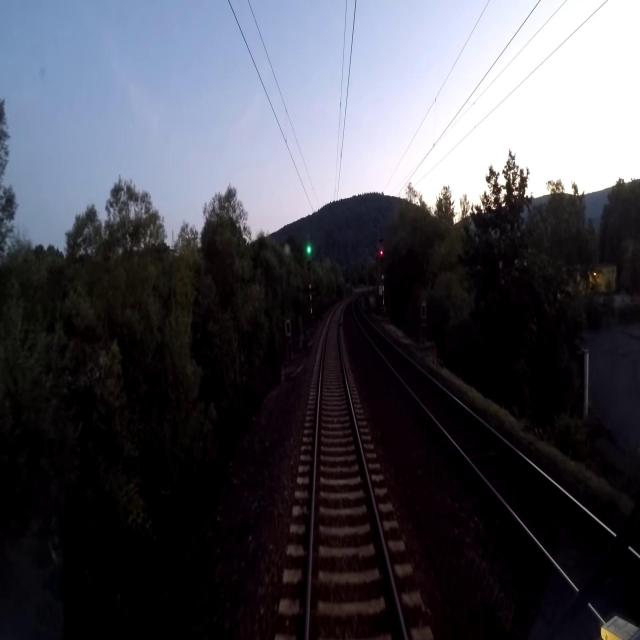rail-track: (354, 297, 608, 581), (309, 302, 404, 639)
